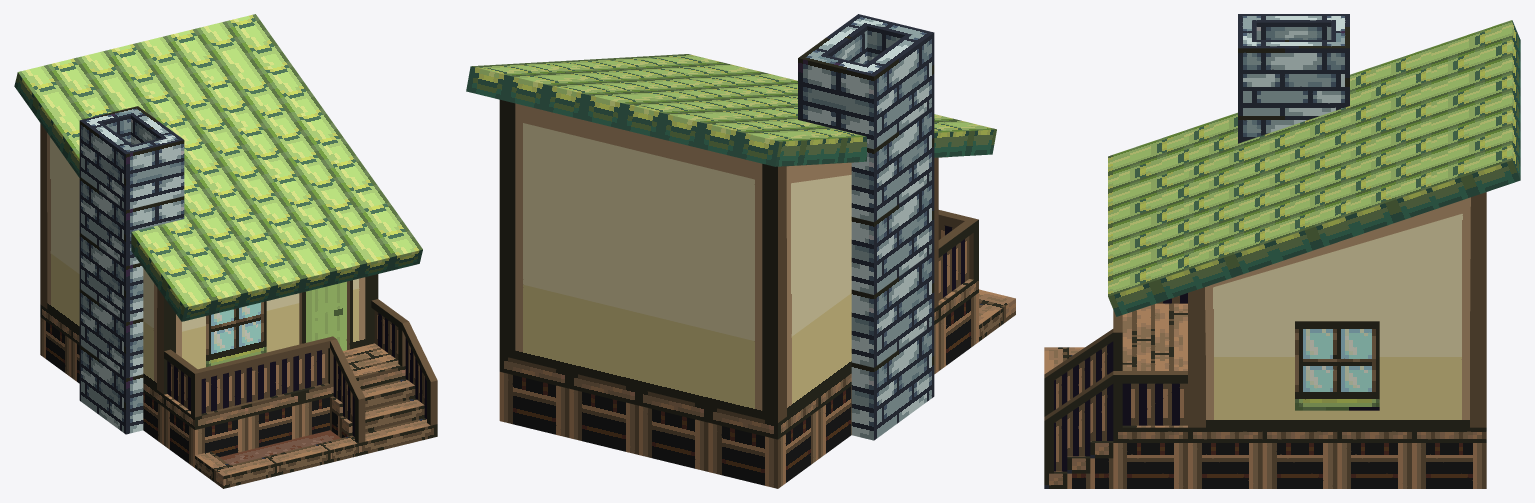
File: player house.glb
3 renders of one model, left to right at view 1: azimuth 30°, elevation 25°; view 2: azimuth 150°, elevation 25°; view 3: azimuth 270°, elevation 25°, orthographic. The views are drawn at different scales.
Parts seen in each view (by area): view 1: house, support, chimney, dirt; view 2: house, chimney, support; view 3: house, support, chimney.
Part boxes in pixels (x1=…): house: x1=14, y1=14, x2=422, y2=394; support: x1=40, y1=299, x2=437, y2=488; chimney: x1=79, y1=106, x2=184, y2=434; dirt: x1=219, y1=430, x2=340, y2=465; house: x1=466, y1=54, x2=996, y2=422; chimney: x1=798, y1=14, x2=934, y2=440; support: x1=499, y1=210, x2=1015, y2=488; house: x1=1108, y1=20, x2=1520, y2=427; support: x1=1044, y1=293, x2=1486, y2=488; chimney: x1=1238, y1=14, x2=1349, y2=143.
Size of the model in its own units: 4.55 by 5 by 6.38.
1 material, 1 textured.
